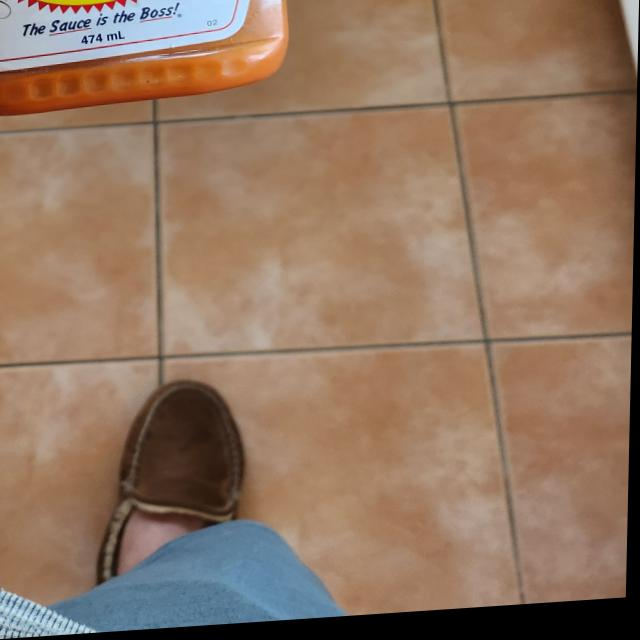buffalo sauce: (0, 0, 294, 118)
